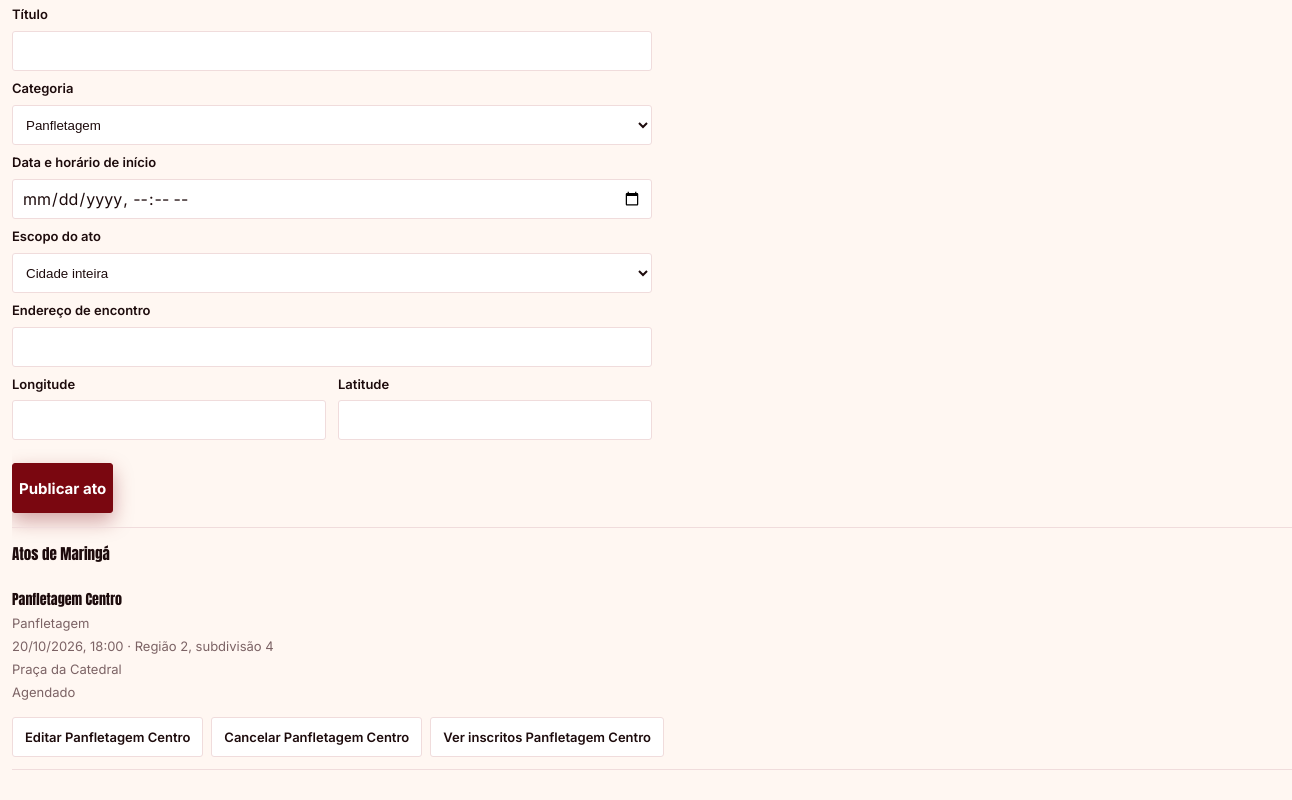
Scenario: ActManagement › cancels an act without removing its cancelled record from the list
This screenshot has width=1292, height=800.
(page scrolled)
Expected: the heading "Panfletagem Centro" is shown, [12,589,122,610]
Click the button "Cancelar Panfletagem Centro" at (317, 737), box [211,717,422,757]
(page scrolled)
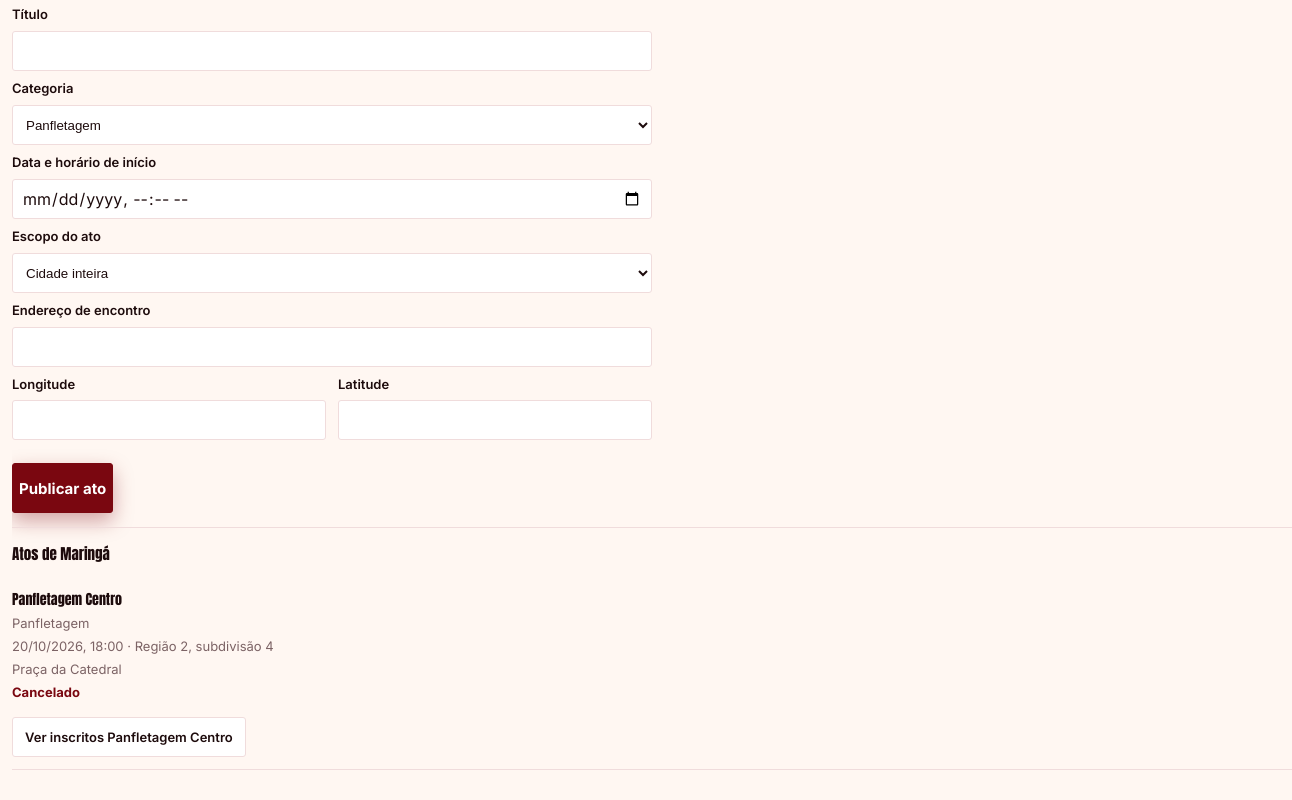
Expected: the heading "Panfletagem Centro" is shown, [12,589,122,610]
Expected: the text "Cancelado" is shown, [12,684,80,700]
